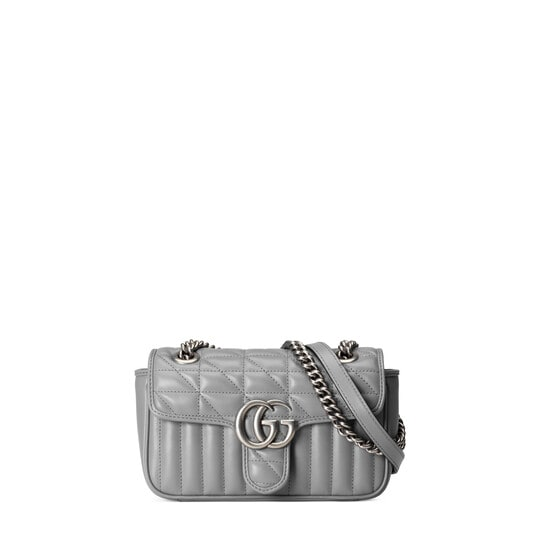Gucci: (135, 335, 407, 503), (225, 393, 308, 454)
